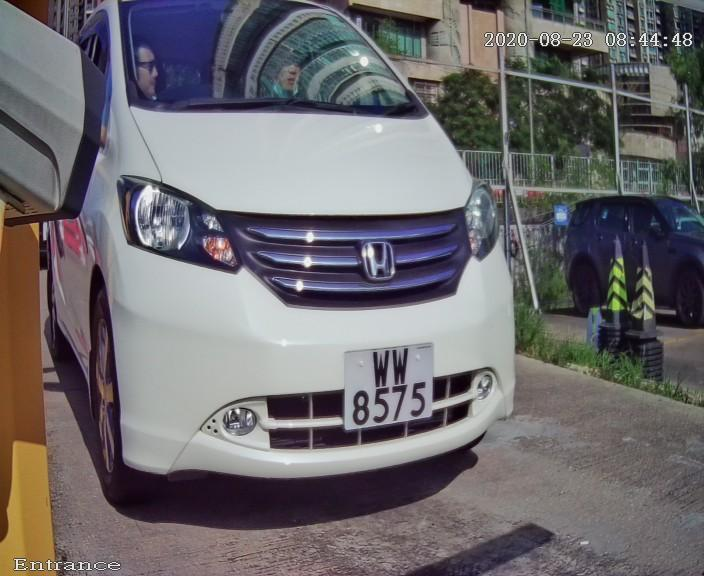License Plate: (337, 337, 441, 438)
